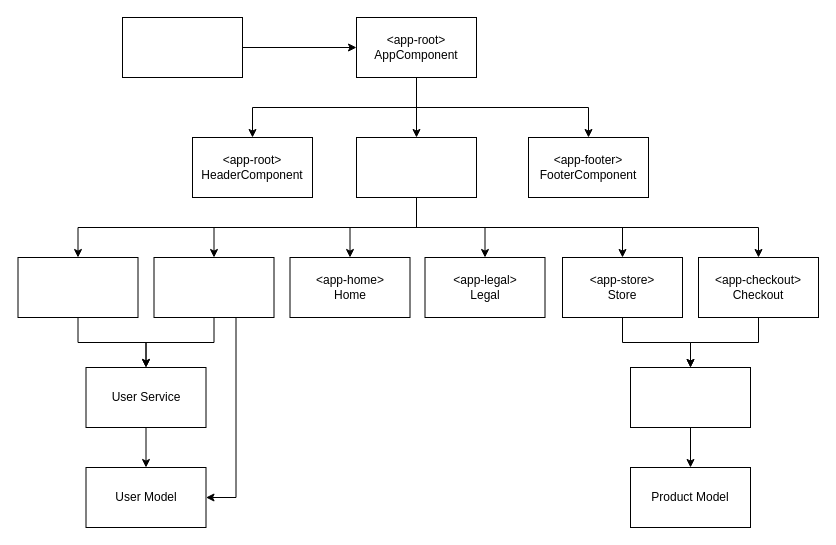
Image size: 836x545. Some labels were removed from this diagram. The centre of each missing label's shape, as x and y in pixels:
<app-login> Login: (x=77, y=287)
<app-signup> SignUp: (x=213, y=287)
<router-outlet> RouterModule: (x=416, y=167)
index.html: (x=182, y=47)
Product Service: (x=690, y=397)
